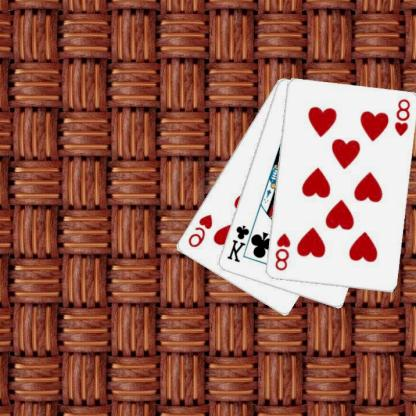8H: (274, 231, 294, 272), (393, 97, 413, 137)
9H: (186, 212, 215, 249)
KC: (226, 222, 257, 264)
